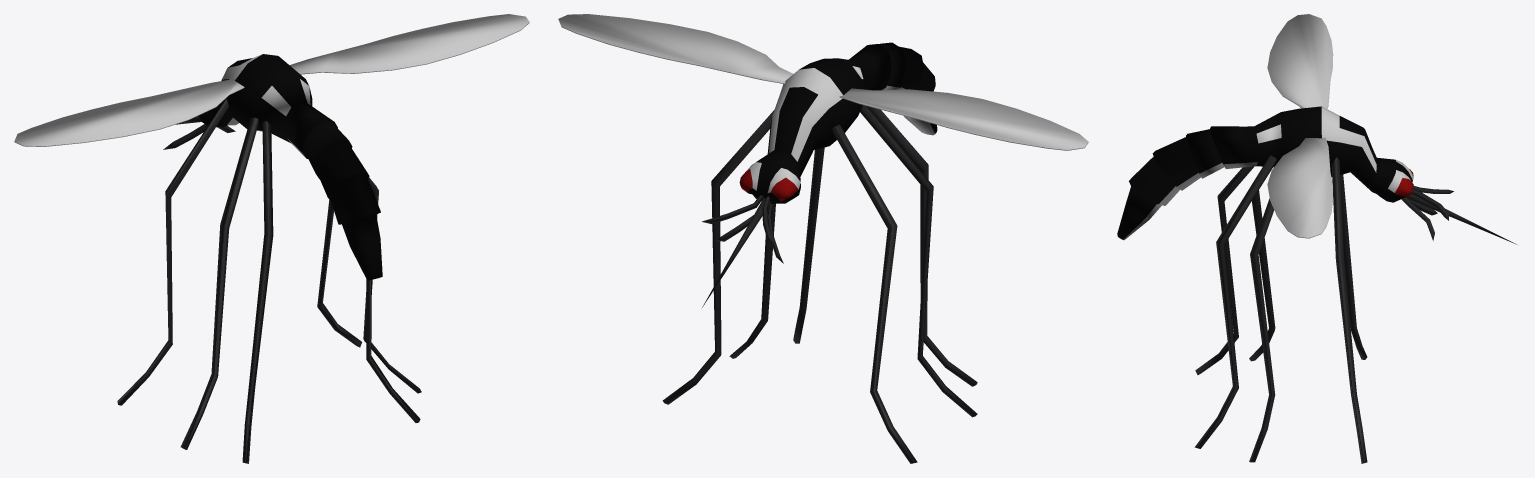
The model's file is SM_MosquitoV1.fbx.
3 views of the same model, side by side, from view 1: azimuth 30°, elevation 25°; view 2: azimuth 150°, elevation 25°; view 3: azimuth 270°, elevation 25° (orthographic). The views are drawn at different scales.
Parts seen in each view (by area): view 1: Mosquito_Male_Mash; view 2: Mosquito_Male_Mash; view 3: Mosquito_Male_Mash.
Boxes of the visible parts, x1,y1,x2,y2 form: Mosquito_Male_Mash: (14,14,529,463); Mosquito_Male_Mash: (558,14,1088,463); Mosquito_Male_Mash: (1117,14,1516,463).
Bounding box in the file's own units: 1.78 × 1.13 × 1.36.
